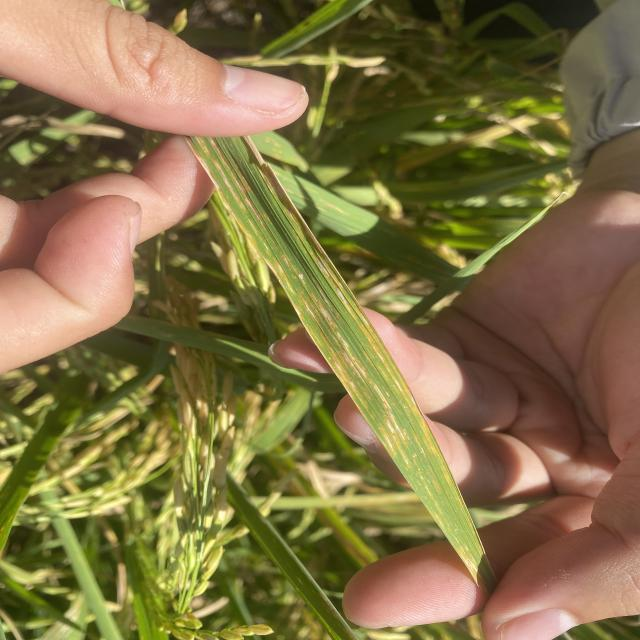Dom soc vi khuan: (210, 138, 265, 228), (364, 333, 407, 395), (372, 383, 406, 440), (316, 259, 349, 308), (214, 161, 246, 210), (386, 418, 410, 465)
